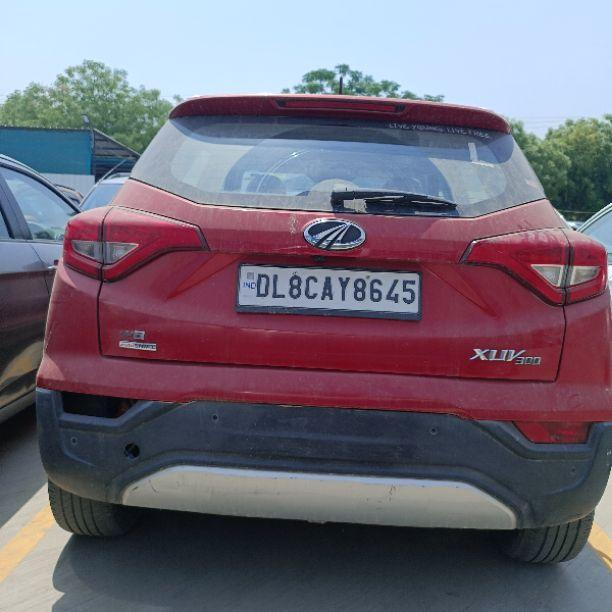license_plate: (234, 261, 423, 320)
